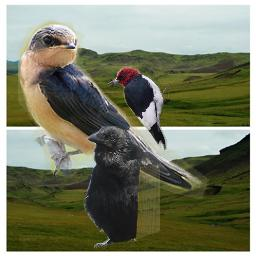Crow: (82, 125, 160, 248)
Swallow: (18, 14, 211, 199)
Woodpecker: (104, 66, 171, 150)
